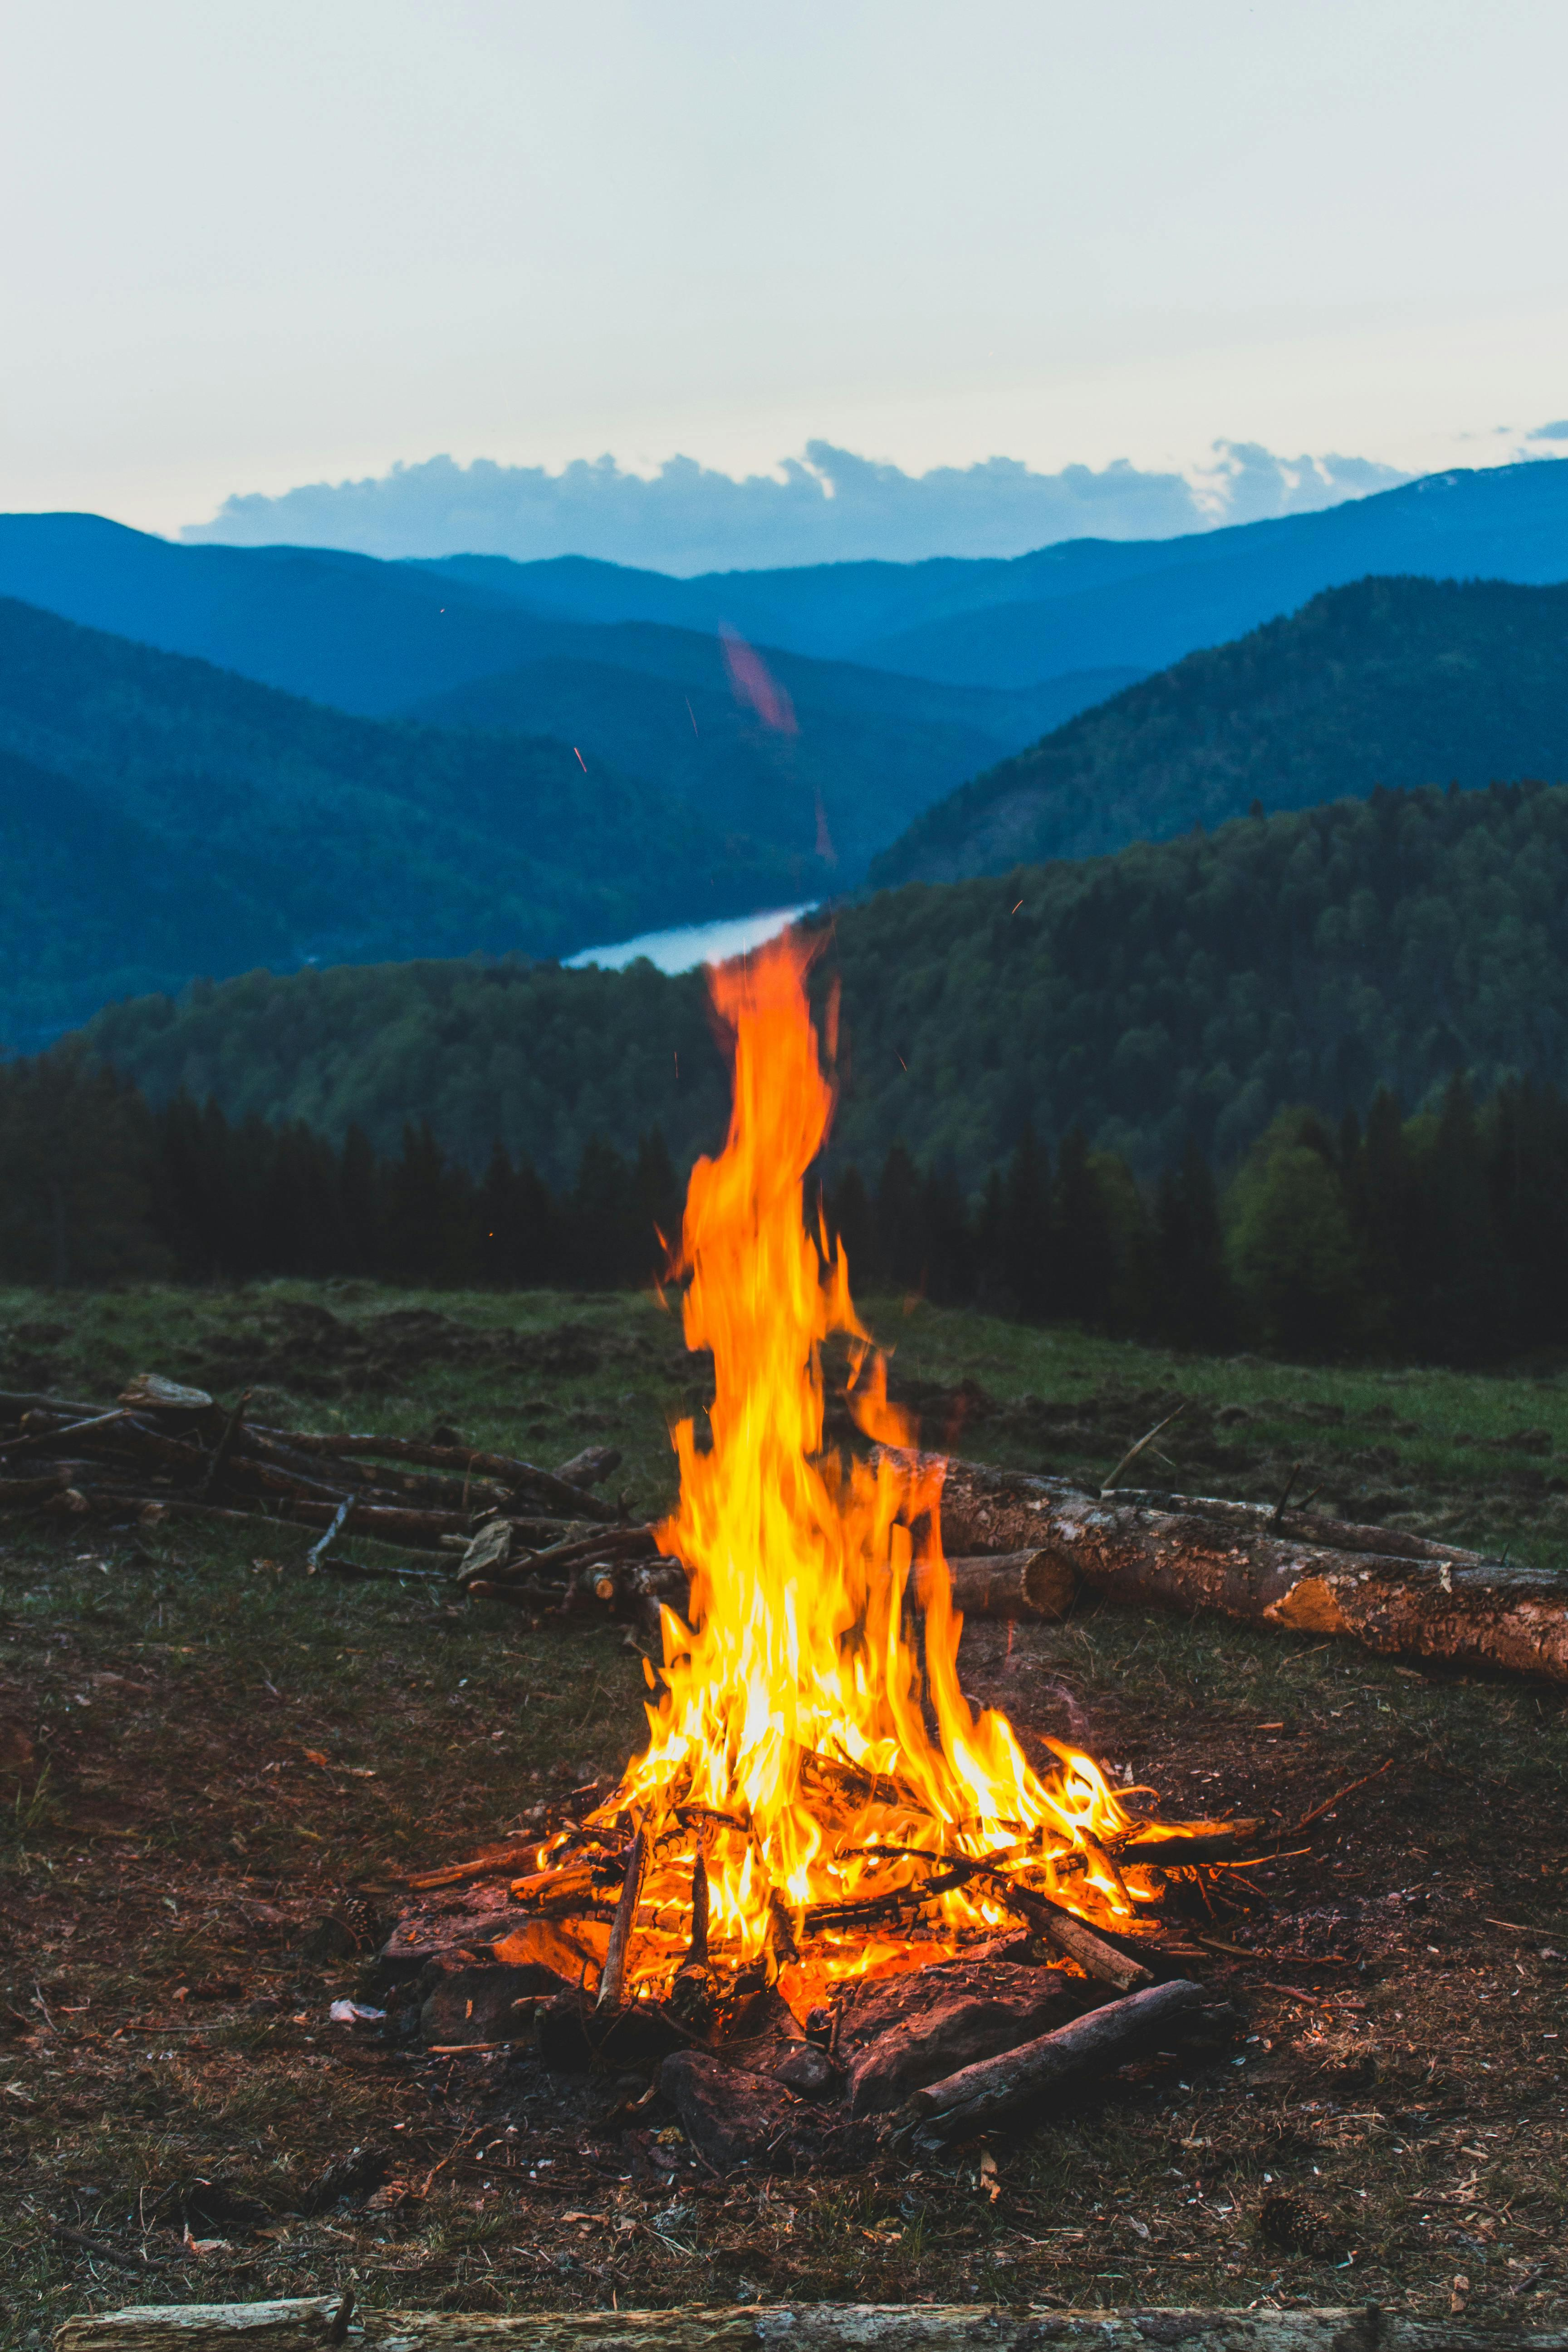Fire: (492, 914, 1179, 1986)
